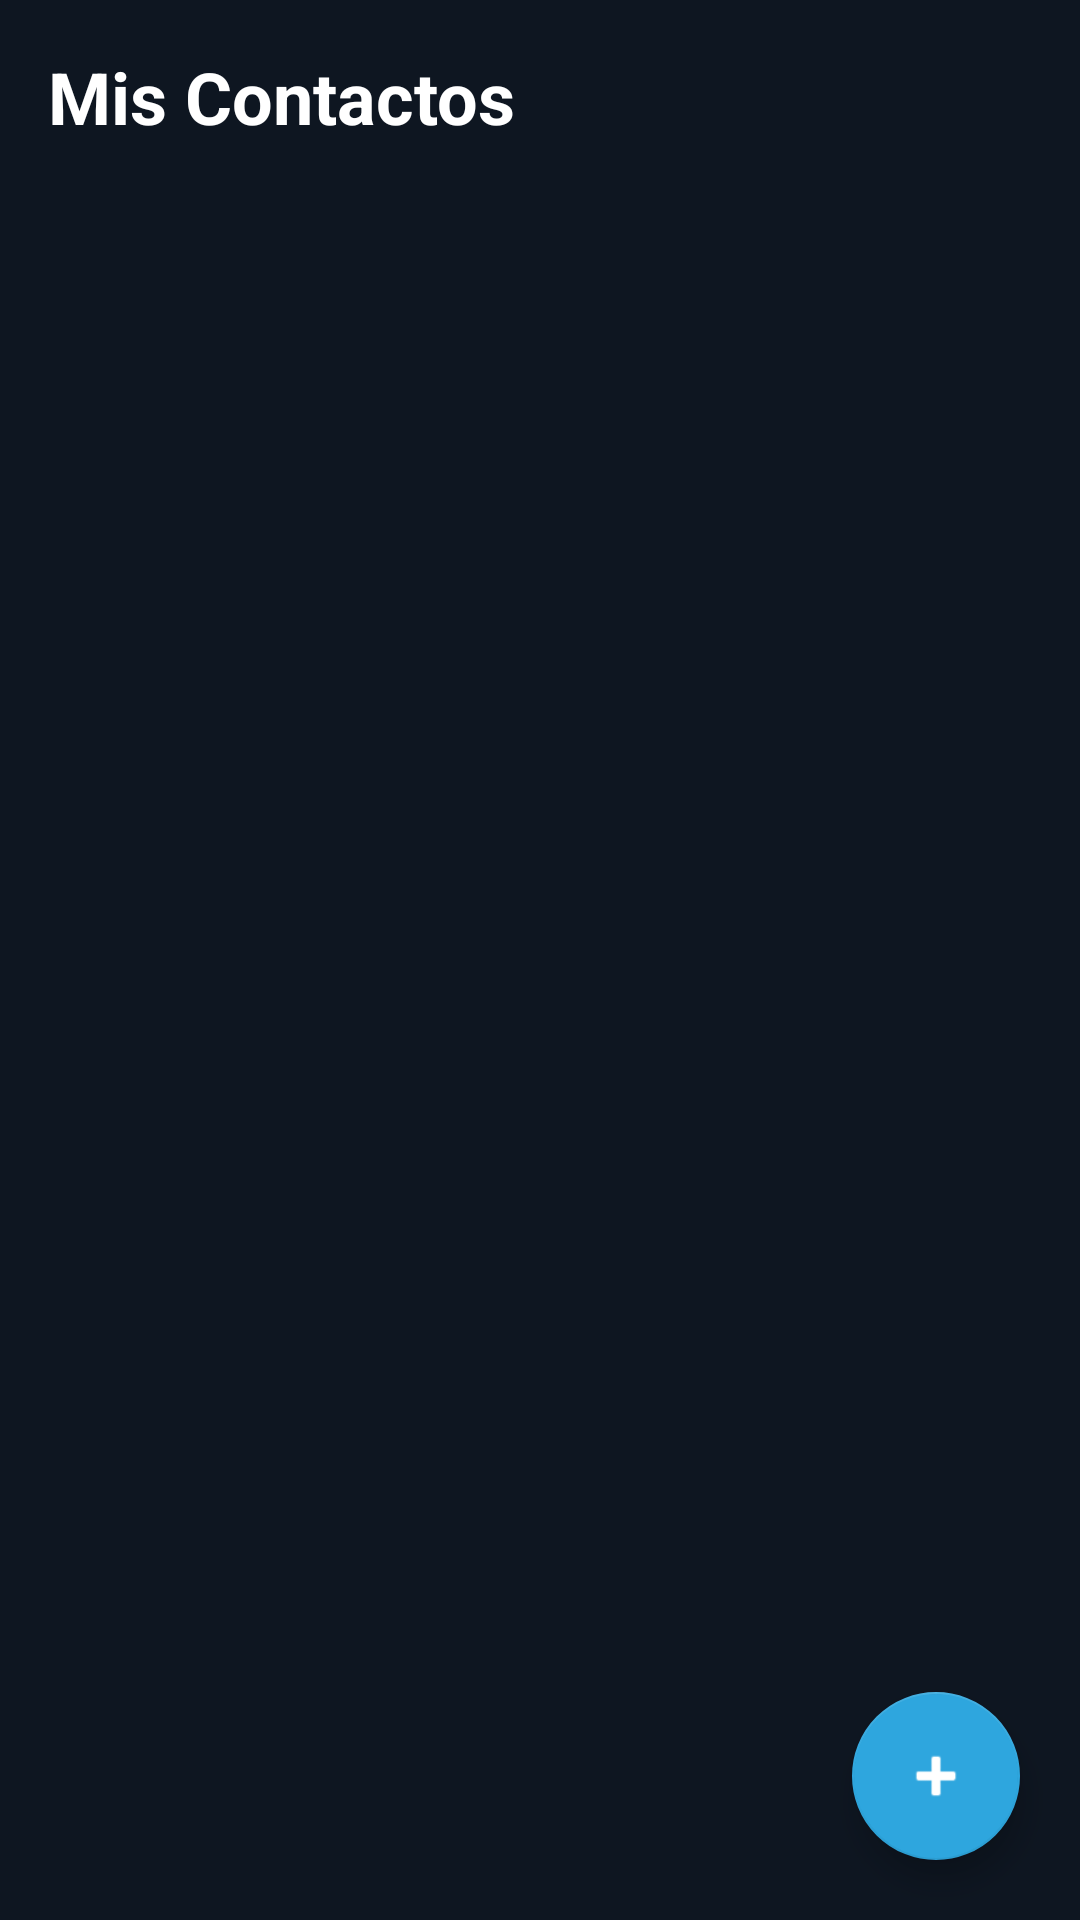

Screen size 1080 × 1920. Icon name, then its center in pixels as (x=x, y=y):
Crear Contacto: (x=936, y=1776)
